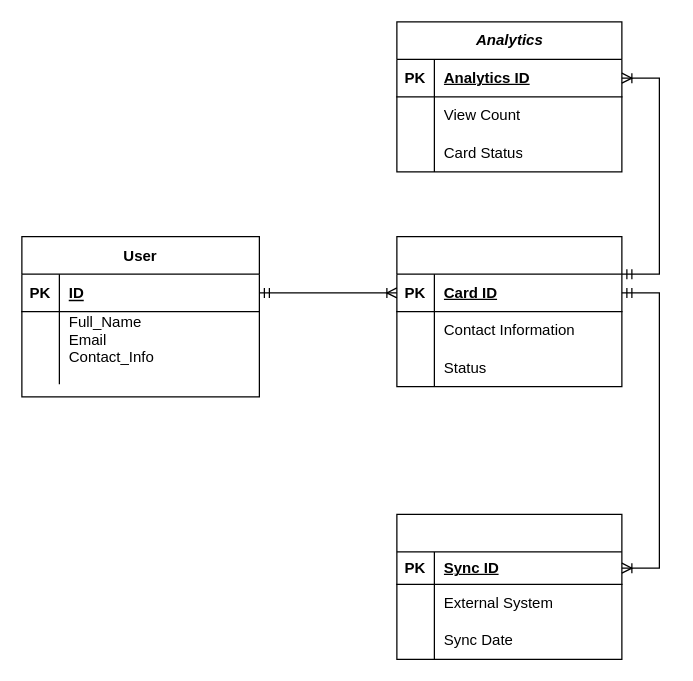
This 693x681 diagram has some shape labels left out. Each missing label, with the box of its shape:
Electronic Card: (396, 235, 622, 387)
Synchronization: (396, 513, 622, 659)
